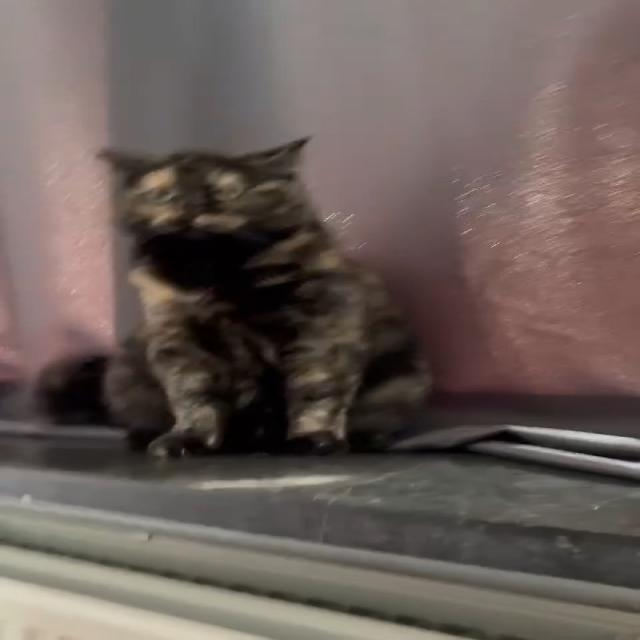authorized: (93, 134, 435, 458)
